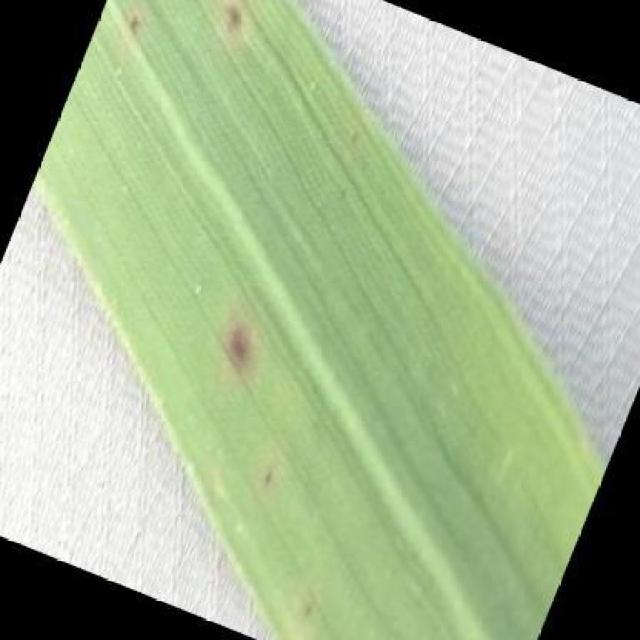Leaf_Blast: (198, 295, 284, 391), (190, 0, 267, 55), (111, 1, 157, 50), (433, 340, 476, 378), (298, 406, 340, 443), (250, 460, 288, 498), (308, 302, 348, 338), (328, 251, 366, 286), (386, 354, 425, 388), (258, 412, 296, 446), (180, 269, 214, 306), (326, 176, 362, 210), (235, 160, 271, 192), (196, 400, 232, 431), (297, 186, 332, 217), (338, 121, 368, 157), (76, 183, 109, 215), (314, 212, 348, 243), (162, 308, 195, 339), (294, 596, 324, 626), (264, 380, 294, 408), (130, 249, 158, 276)
